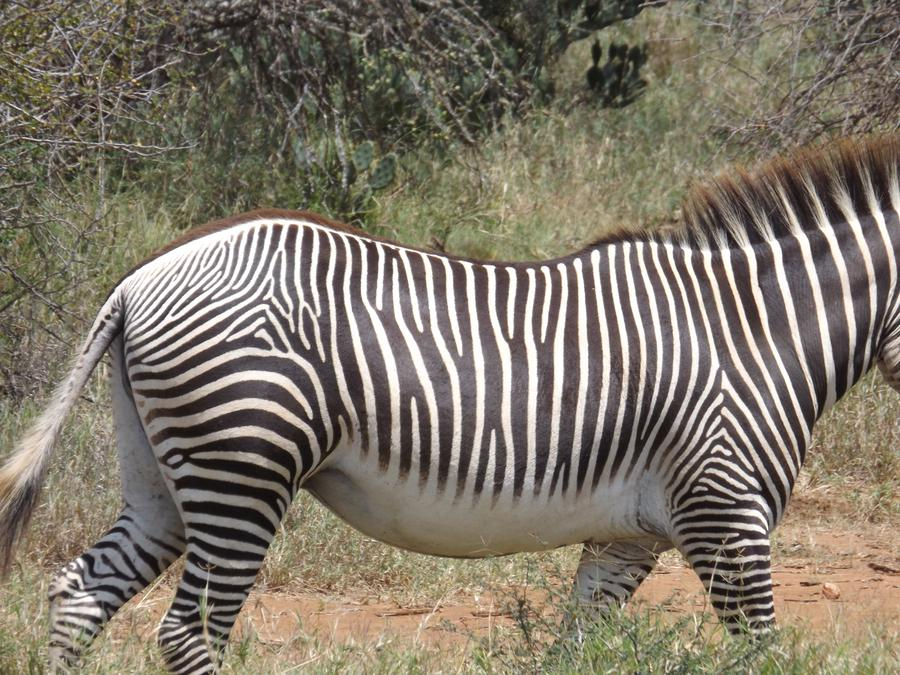zebra_grevys: (101, 187, 779, 552)
